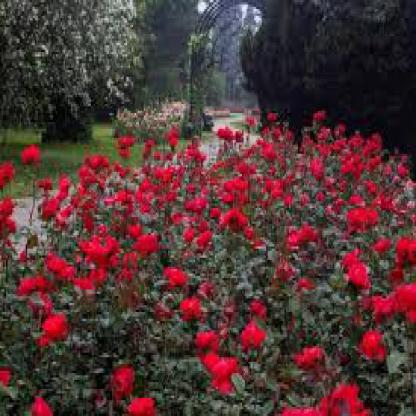Rose-Mawar: (1, 105, 416, 415)
